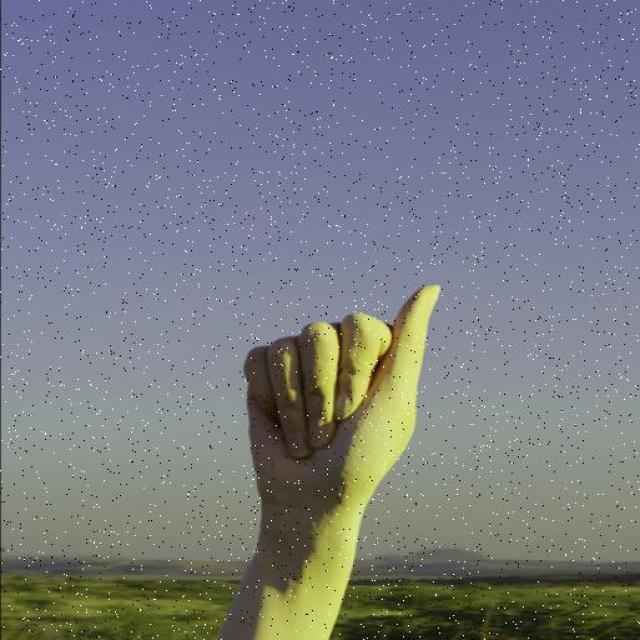A: (238, 281, 448, 529)
